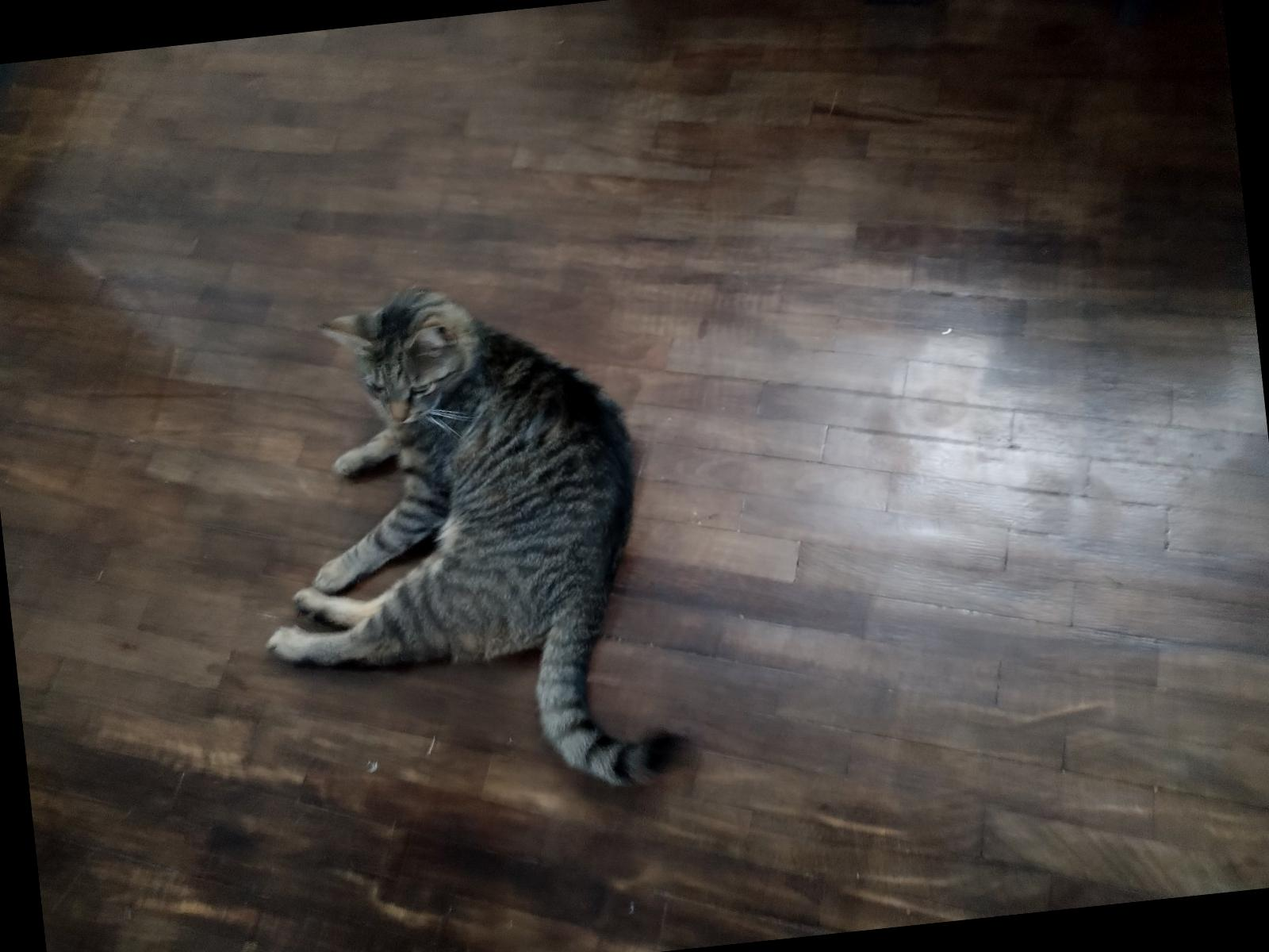macka: (228, 262, 693, 829)
